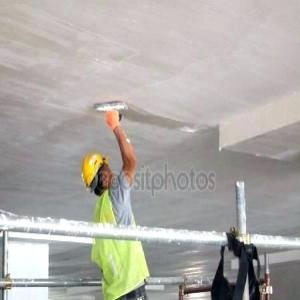yellow: (82, 153, 114, 199)
